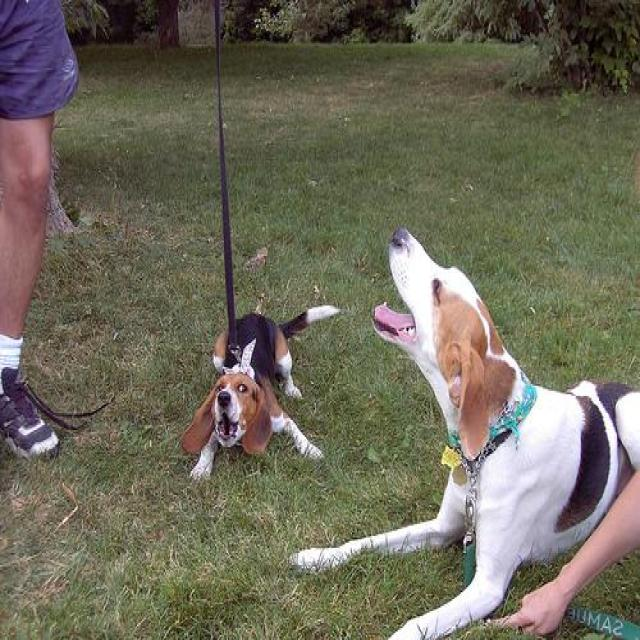beagle: (288, 218, 626, 635), (176, 297, 340, 480)
